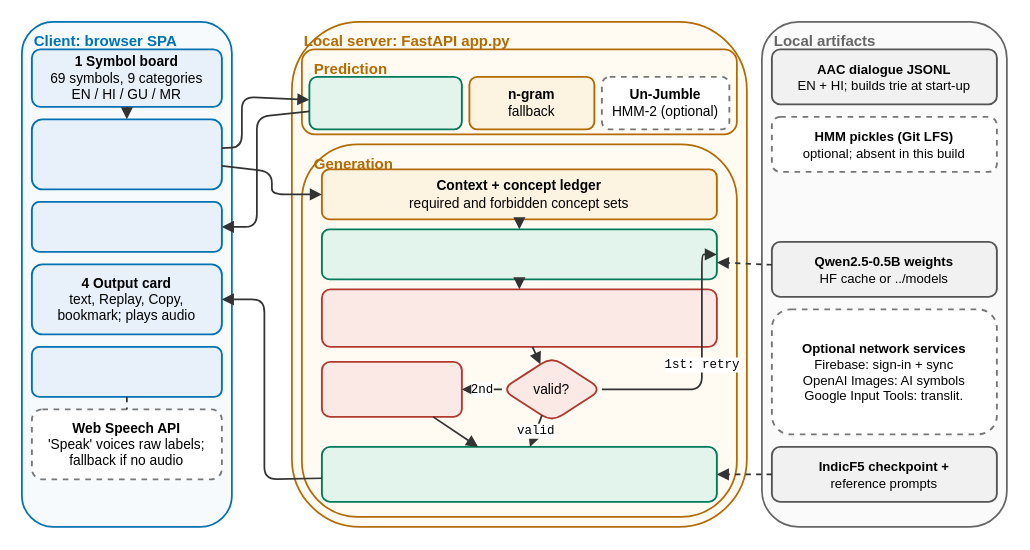
The diagram is 1030 pixels wide and 550 high, and some of its shapes have lost their labels. Each missing label, with the centre of its shape:
"2 Sentence canvas ordered concept labels + intent / negation rule" goes at point 126,154.
"3 Next-word shelf suggestions + order" goes at point 126,226.
"Hard validator (deterministic) negation, entities, forbidden, time words, intent" goes at point 518,317.
"IndicF5 DiT + Vocos, 24 kHz WAV mock tone when weights are absent" goes at point 518,473.
"Infinity-gram trie EN + HI" goes at point 385,102.
"localStorage cache prefs, My Words" goes at point 126,371.
"Qwen2.5-0.5B-Instruct cascade LLM-1 realize > LLM-2 refine > LLM-3 verify" goes at point 518,254.
"Template fallback after 2 rejections" goes at point 391,388.
